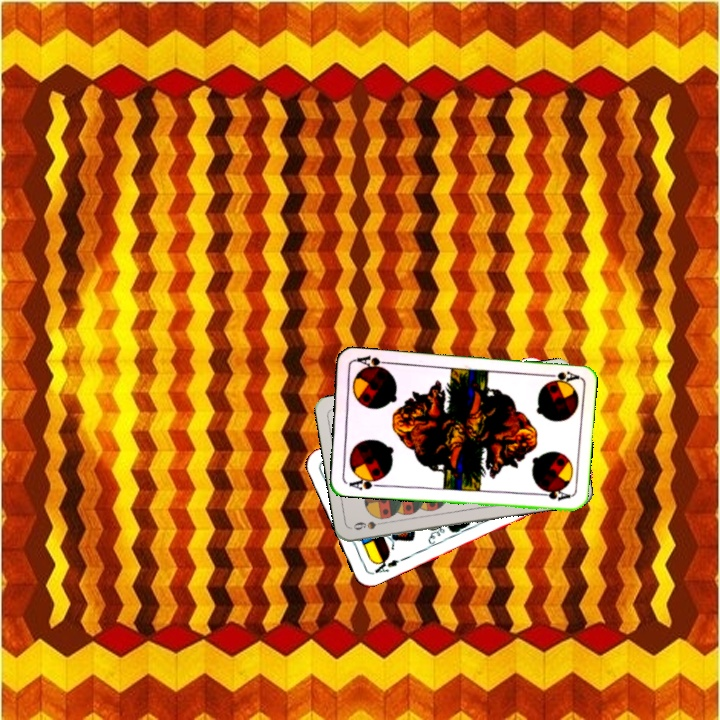EA: (368, 554, 401, 577)
S9: (349, 517, 390, 533)
SA: (345, 472, 384, 492), (540, 367, 581, 386)
